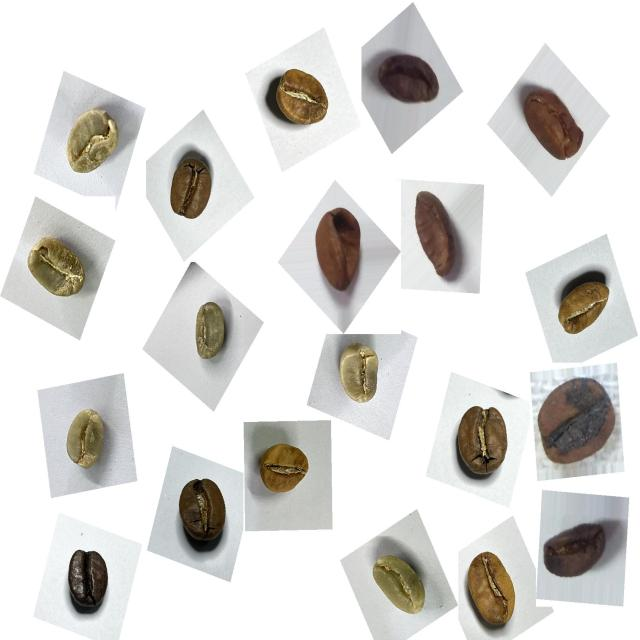bad: (528, 369, 621, 478), (516, 78, 592, 172), (403, 181, 470, 287), (304, 197, 374, 298), (540, 511, 618, 595), (369, 39, 444, 119)
dark: (57, 533, 122, 621)
green: (18, 226, 98, 314), (54, 98, 128, 191), (360, 544, 435, 632), (328, 334, 394, 418), (56, 400, 118, 482), (181, 294, 238, 373)
light: (456, 542, 526, 638), (548, 260, 620, 346), (253, 436, 321, 510)
medium: (445, 395, 523, 491), (262, 59, 340, 140), (167, 468, 237, 558), (159, 147, 223, 231)
